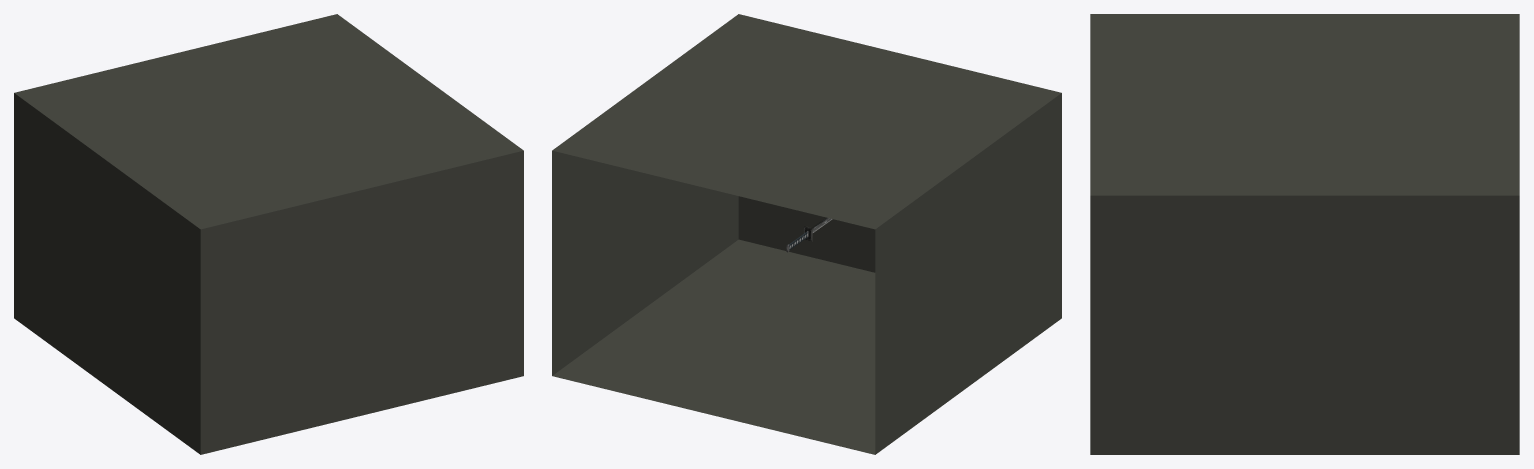
Rendered from sword_fixed.obj.
The picture shows the model from 3 angles, left to right: view 1: azimuth 30°, elevation 25°; view 2: azimuth 150°, elevation 25°; view 3: azimuth 270°, elevation 25°; orthographic projection. The views are drawn at different scales.
Parts seen in each view (by area): view 1: Ninja_Sword; view 2: Ninja_Sword; view 3: Ninja_Sword.
Part boxes in pixels (x1=…): Ninja_Sword: x1=14, y1=14, x2=523, y2=454; Ninja_Sword: x1=552, y1=14, x2=1061, y2=454; Ninja_Sword: x1=1090, y1=14, x2=1519, y2=454.
Size of the model in its own units: 6 by 4 by 6.
